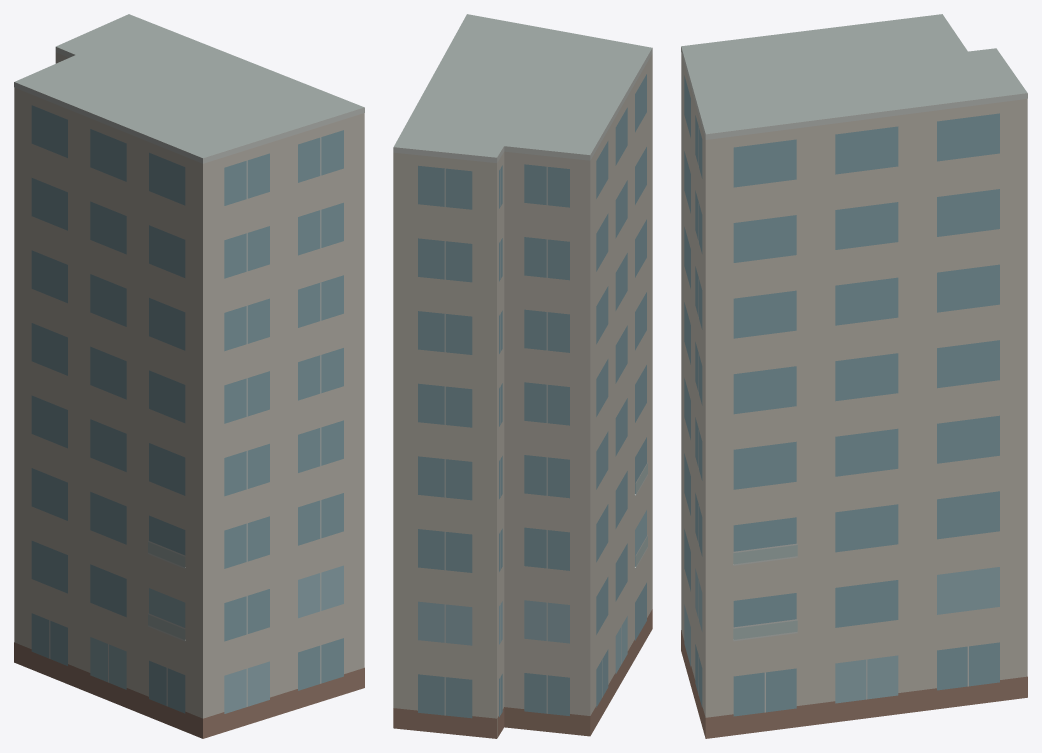
The model's file is survey-upis-32772500.glb.
3 views of the same model, side by side, from view 1: azimuth 30°, elevation 25°; view 2: azimuth 150°, elevation 25°; view 3: azimuth 270°, elevation 25° (orthographic). The views are drawn at different scales.
Parts seen in each view (by area): view 1: survey-upis-32772500.tmp; view 2: survey-upis-32772500.tmp; view 3: survey-upis-32772500.tmp.
Part boxes in pixels (bbox=[...]): survey-upis-32772500.tmp: bbox=[14, 14, 364, 738]; survey-upis-32772500.tmp: bbox=[393, 14, 652, 738]; survey-upis-32772500.tmp: bbox=[681, 14, 1027, 738].
Bounding box in the file's own units: 11.02 × 25.8 × 13.42.
